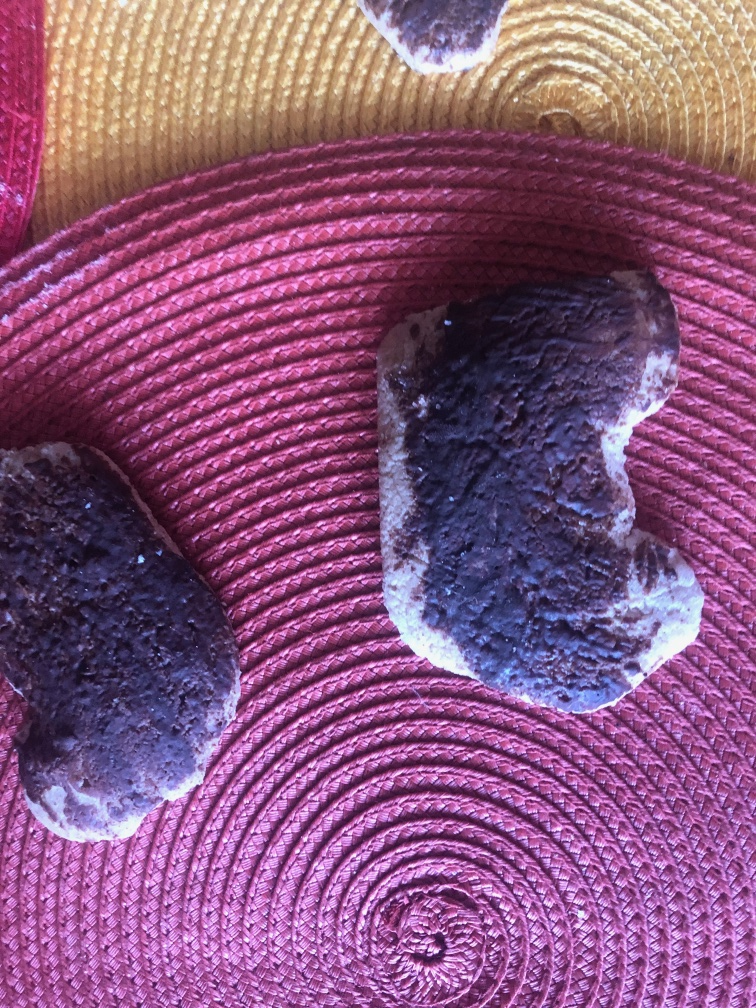weird #1: (376, 265, 715, 740), (1, 430, 249, 844)
